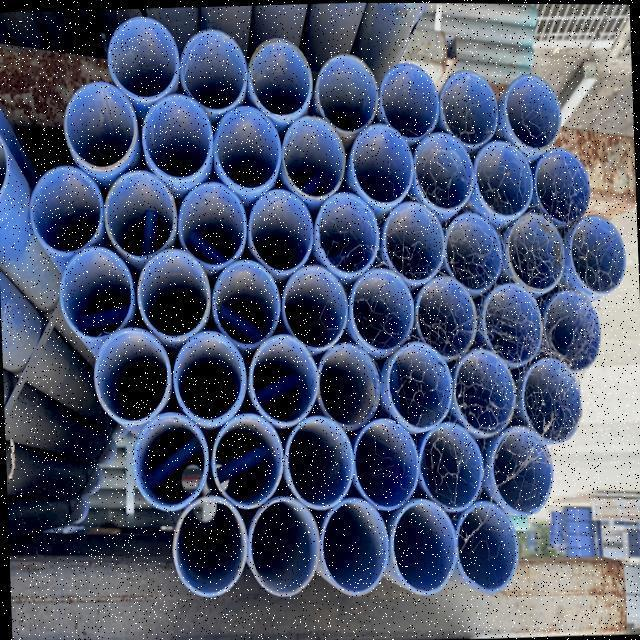pipe: (241, 496, 324, 598), (168, 492, 249, 596), (128, 409, 209, 511), (93, 325, 174, 425), (52, 246, 137, 341), (318, 494, 393, 594), (446, 496, 525, 590), (135, 247, 213, 340), (285, 412, 357, 512), (389, 489, 458, 592), (172, 332, 248, 424), (30, 163, 105, 256), (177, 179, 257, 266), (349, 416, 421, 512), (214, 413, 284, 510), (382, 339, 456, 430), (106, 169, 179, 259), (251, 334, 321, 427), (142, 91, 214, 181), (63, 85, 136, 172), (407, 268, 476, 360), (490, 422, 557, 515), (107, 14, 179, 100), (212, 258, 283, 345), (310, 189, 381, 276), (281, 261, 350, 349), (347, 267, 419, 351), (317, 340, 383, 430), (453, 344, 518, 435), (420, 420, 486, 508), (216, 107, 285, 191), (249, 185, 314, 274), (520, 351, 584, 440), (352, 116, 417, 203), (280, 113, 346, 198), (180, 26, 249, 107), (412, 126, 476, 211), (248, 36, 315, 117), (315, 53, 382, 133), (505, 209, 567, 293), (382, 202, 445, 284), (483, 282, 543, 367), (445, 211, 506, 293), (473, 136, 534, 218), (381, 60, 442, 142), (438, 64, 500, 144), (571, 208, 628, 295), (543, 286, 602, 369), (535, 142, 592, 225), (505, 72, 564, 150)
